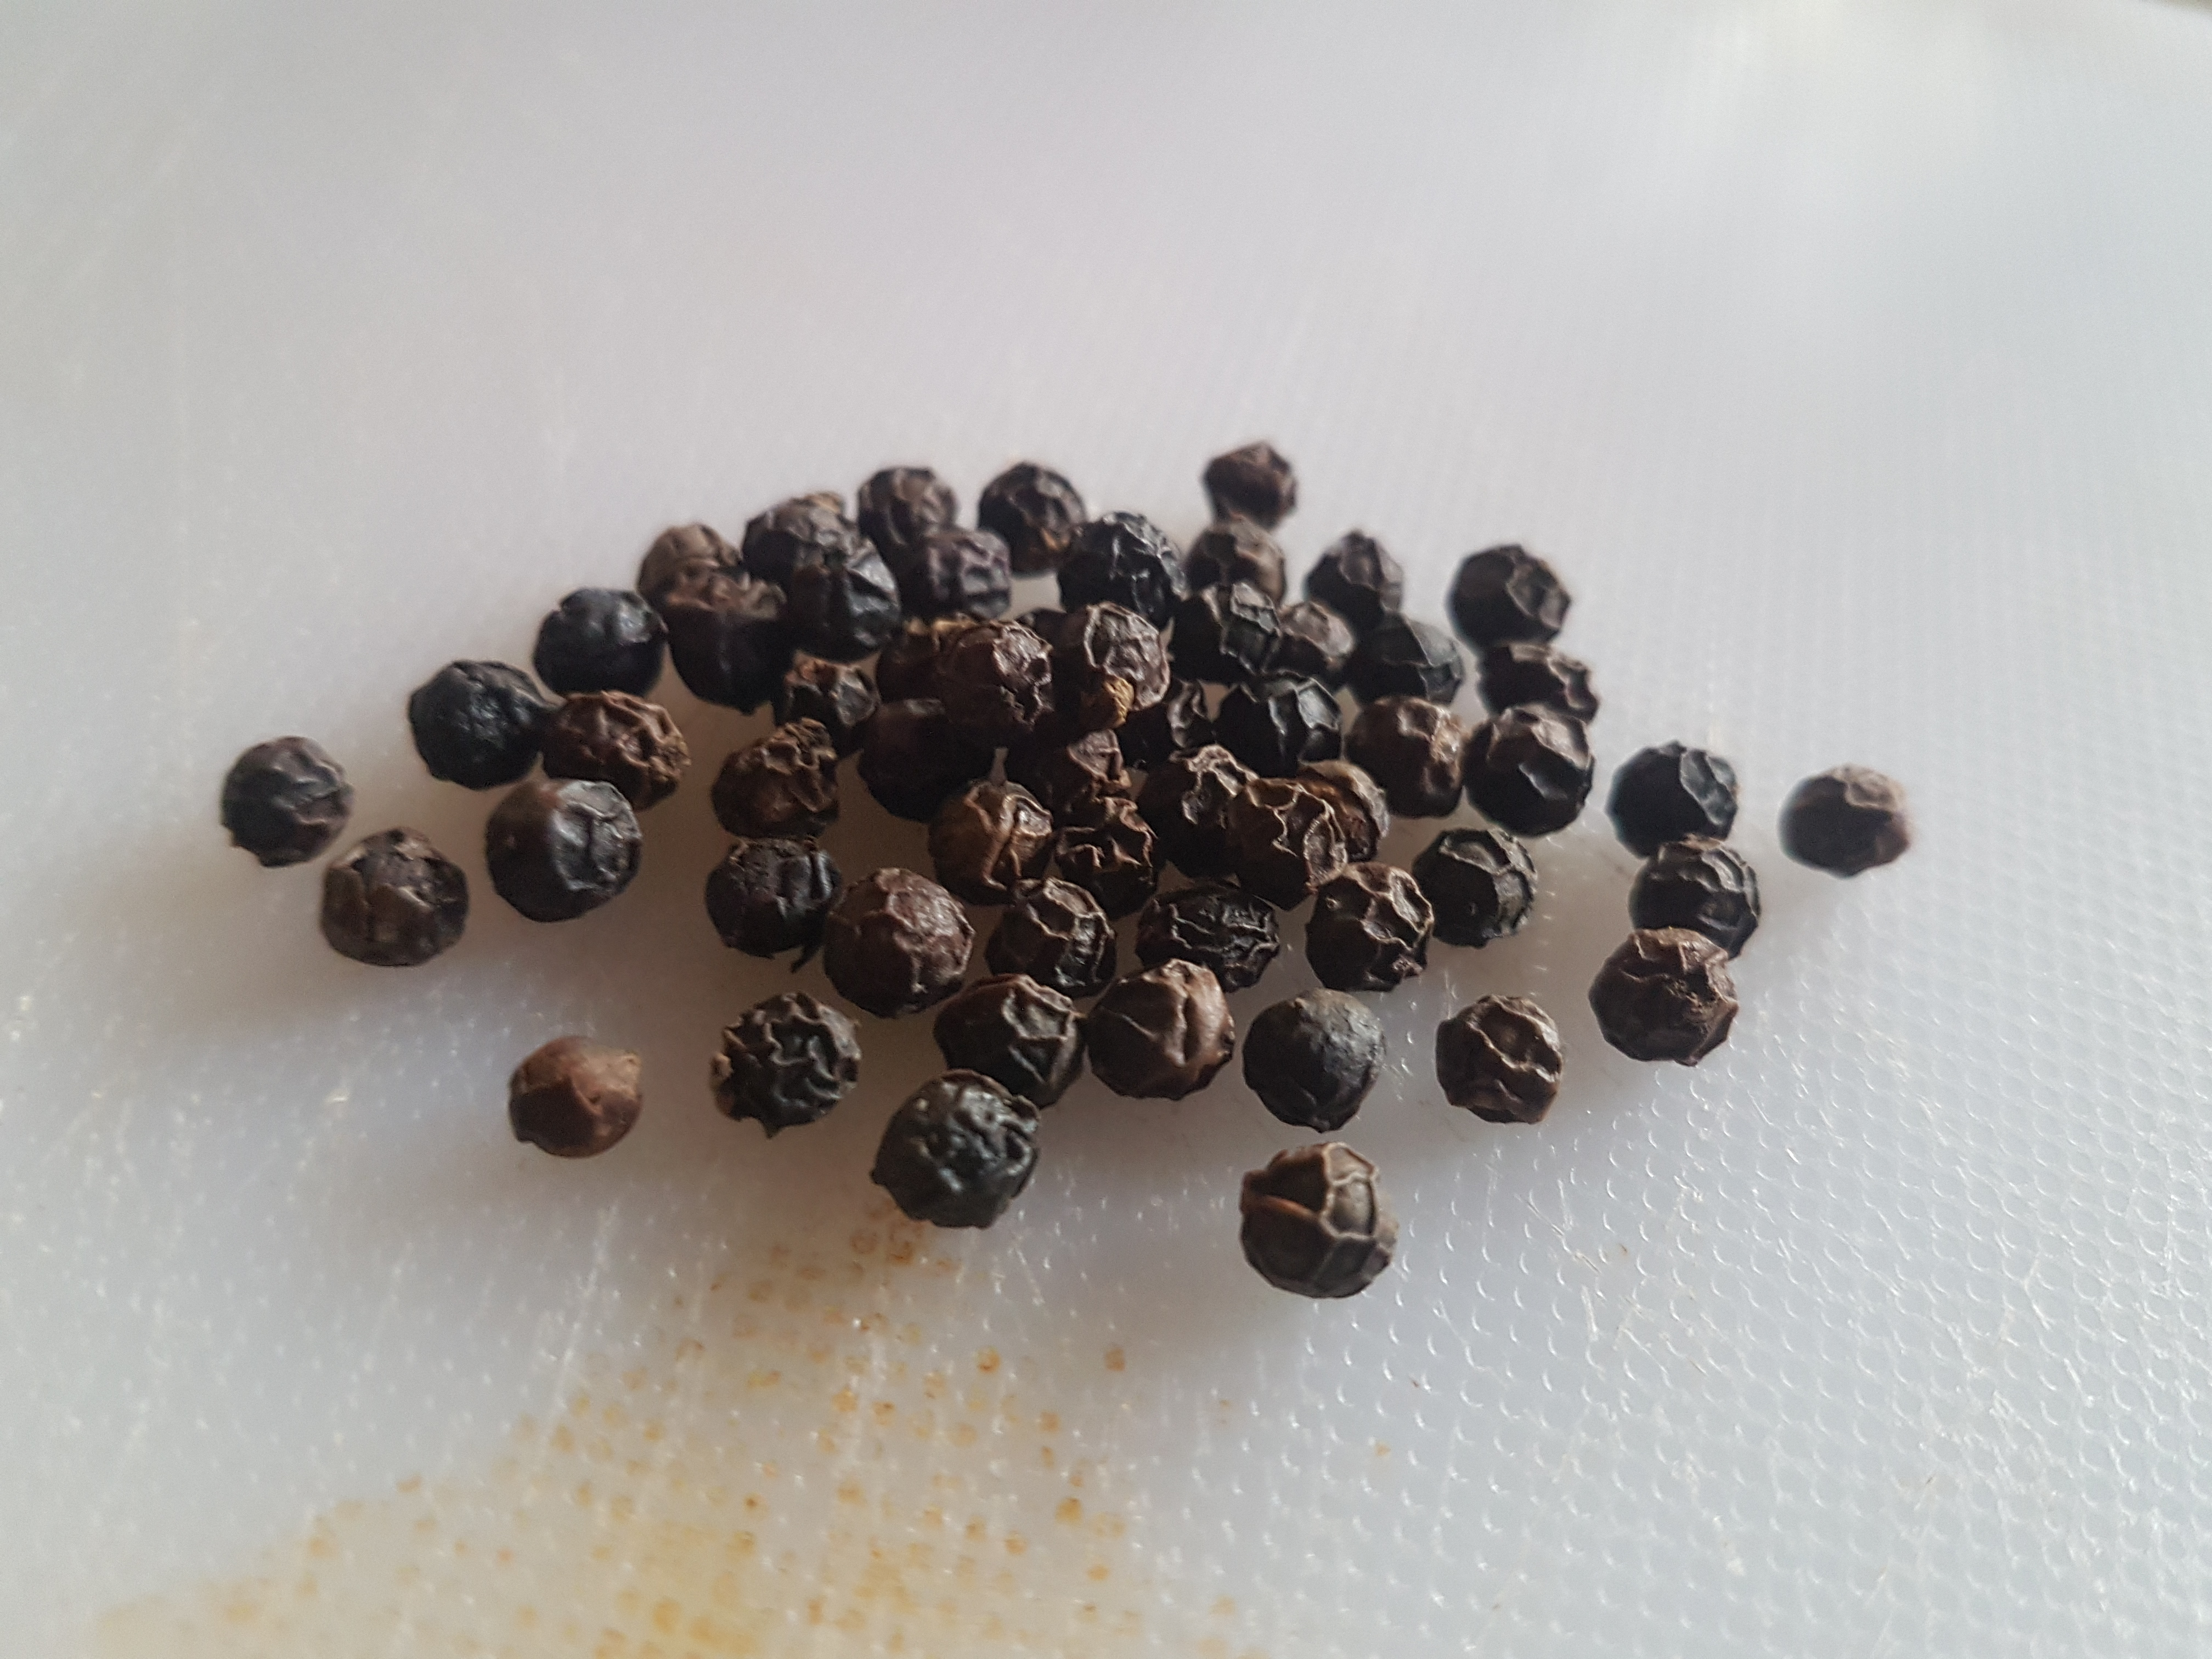pepper corns: (91, 410, 2064, 1370)
